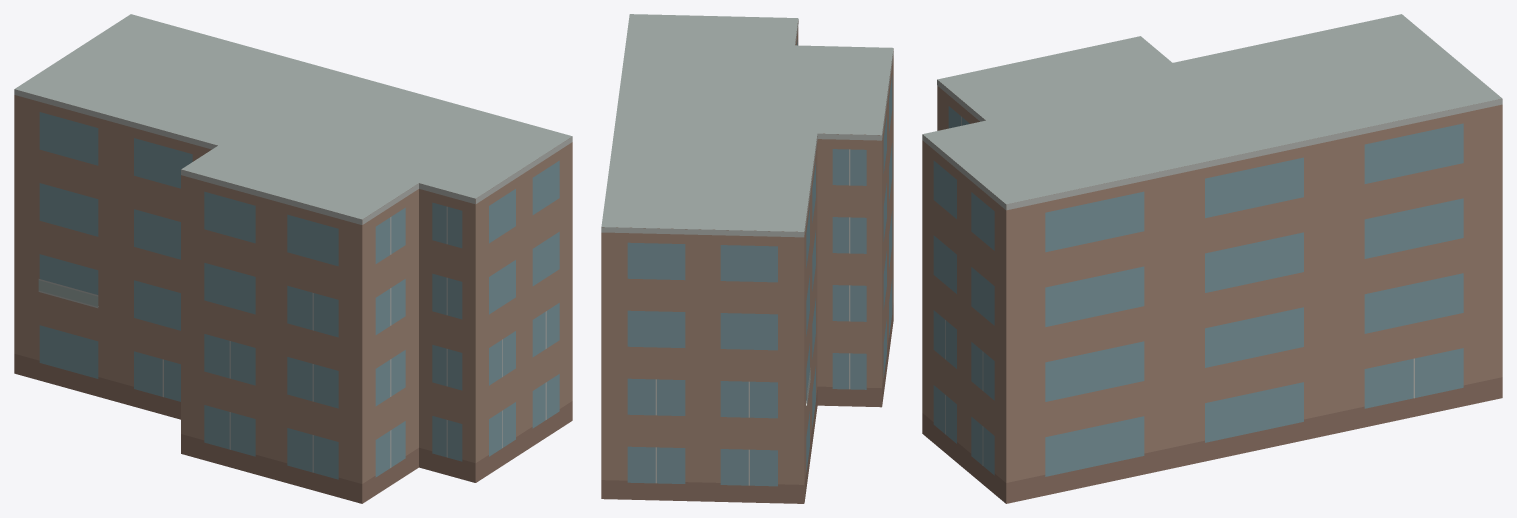
Rendered from residential-3f877bc8-52e8-4870-9d14-01866a80b959.glb.
3 renders of one model, left to right at view 1: azimuth 30°, elevation 25°; view 2: azimuth 150°, elevation 25°; view 3: azimuth 270°, elevation 25°, orthographic. The views are drawn at different scales.
Visible parts, largest first — view 1: residential-3f877bc8-52e8-4870-9d14-01866a80b959.tmp; view 2: residential-3f877bc8-52e8-4870-9d14-01866a80b959.tmp; view 3: residential-3f877bc8-52e8-4870-9d14-01866a80b959.tmp.
Boxes of the visible parts, x1,y1,x2,y2 form: residential-3f877bc8-52e8-4870-9d14-01866a80b959.tmp: (14, 14, 572, 503); residential-3f877bc8-52e8-4870-9d14-01866a80b959.tmp: (601, 14, 893, 503); residential-3f877bc8-52e8-4870-9d14-01866a80b959.tmp: (922, 14, 1502, 503).
Size of the model in its own units: 16.64 by 12.2 by 21.43.
